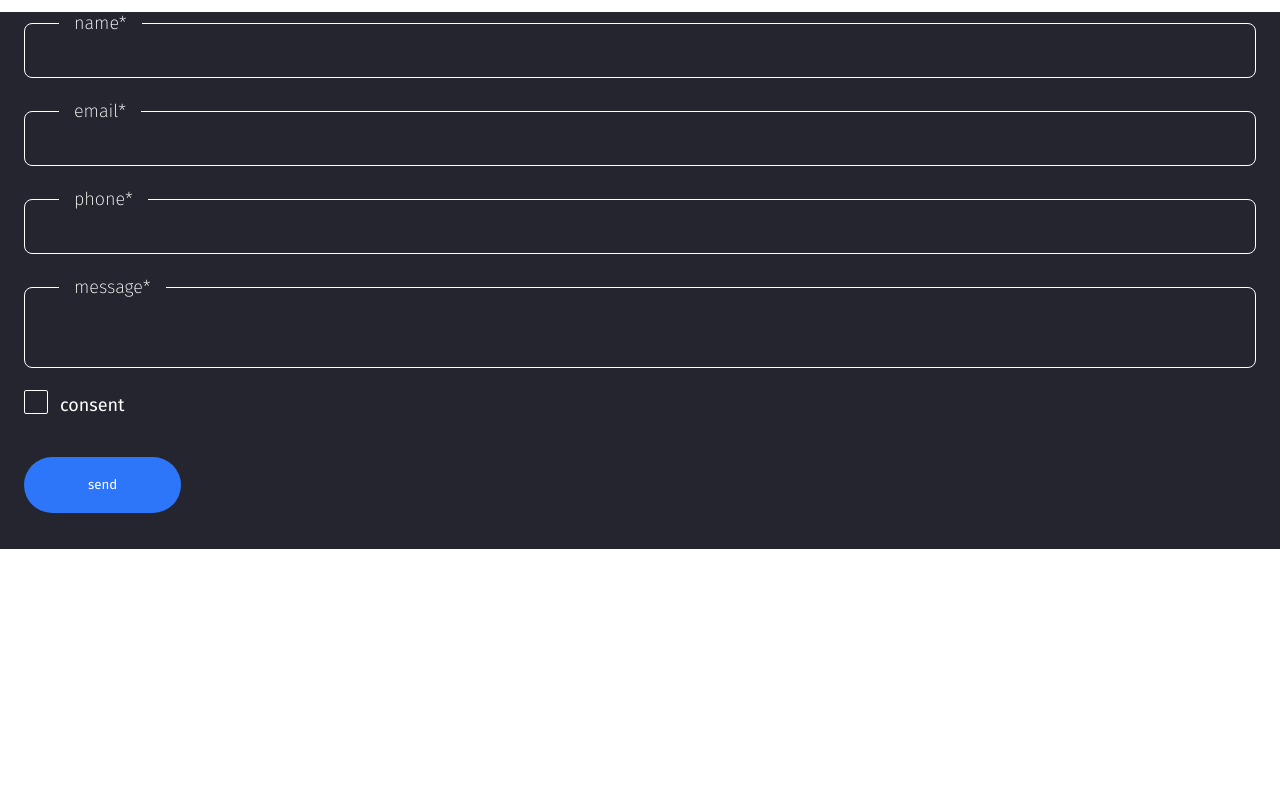
Test case: ContactForm Component › shows an error when the email is in an invalid format
Type "Nick Tests" into the field labelled "name". click: (640, 56)
box: left=25, top=34, right=1255, bottom=77
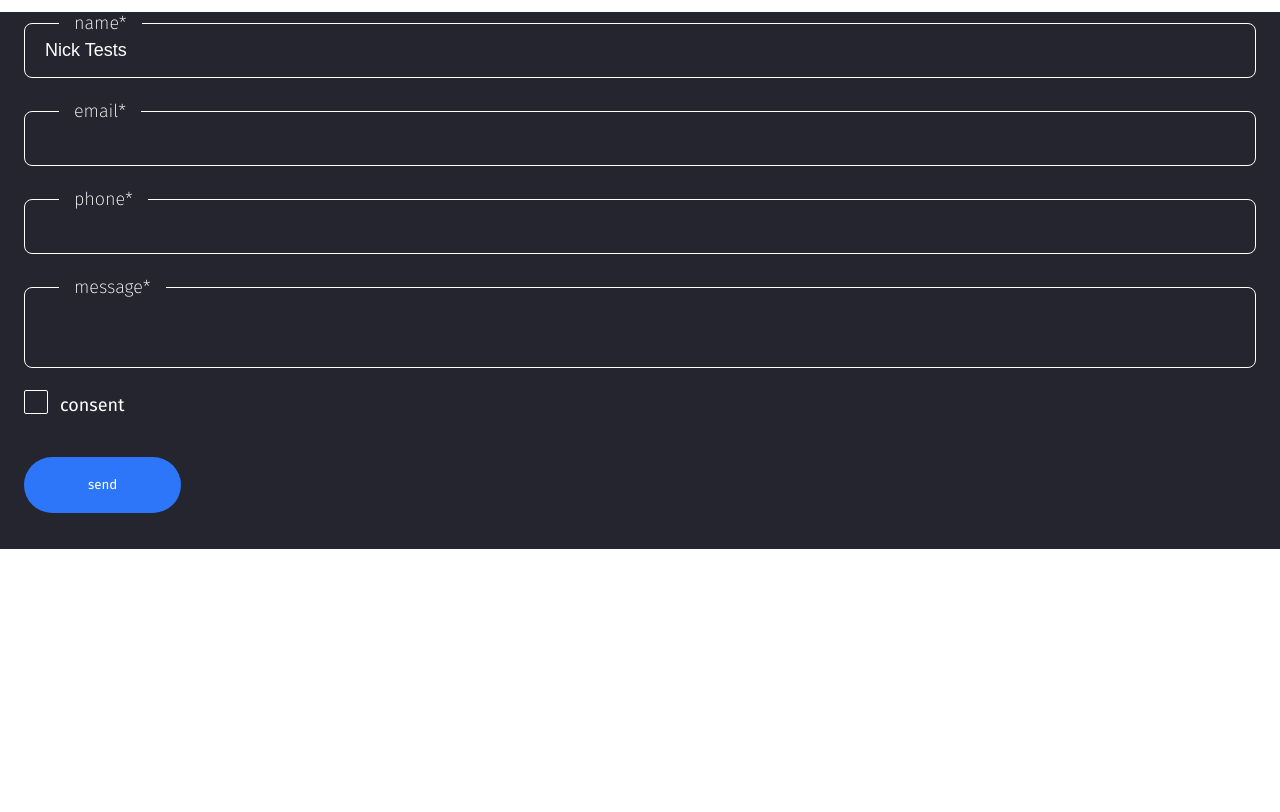
Type "invalid-email" into the field labelled "email". click: (640, 144)
box: left=25, top=122, right=1255, bottom=165
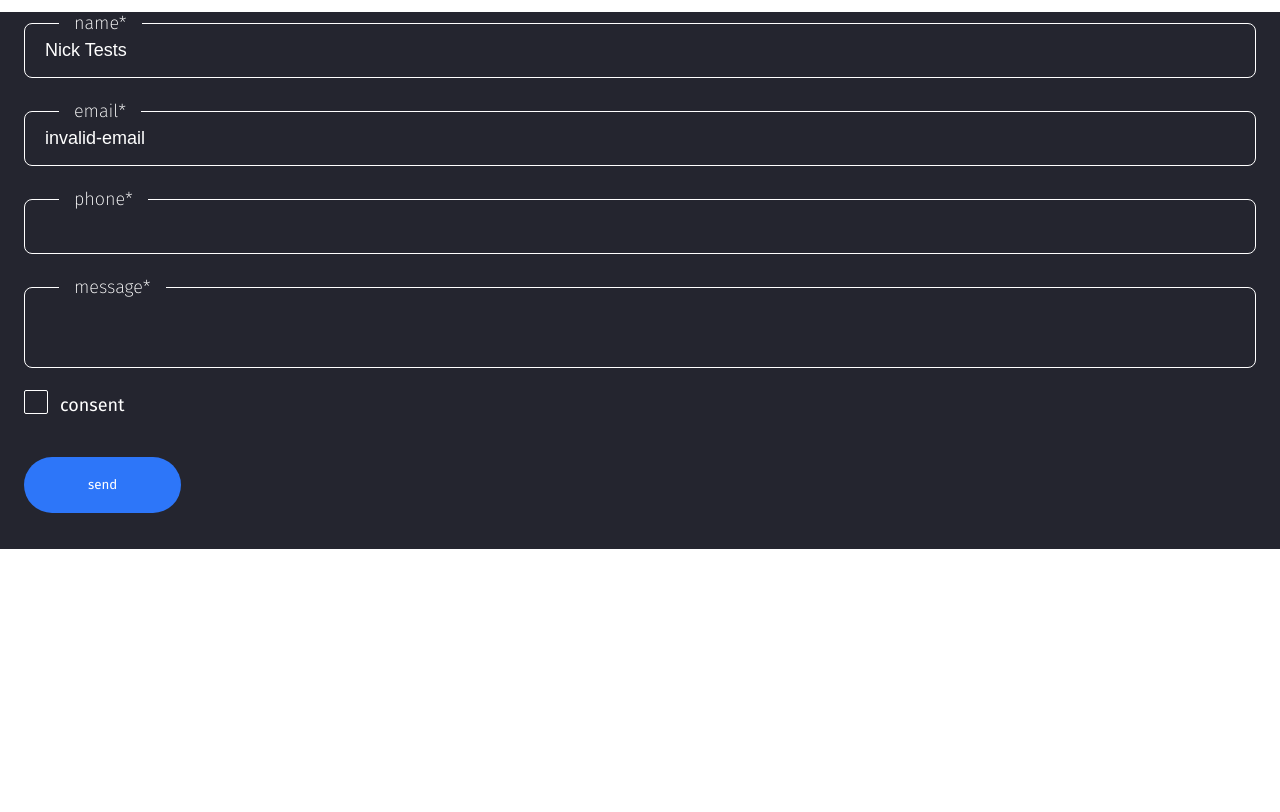
Type "1234567890" into the field labelled "phone". click: (640, 232)
box: left=25, top=210, right=1255, bottom=253
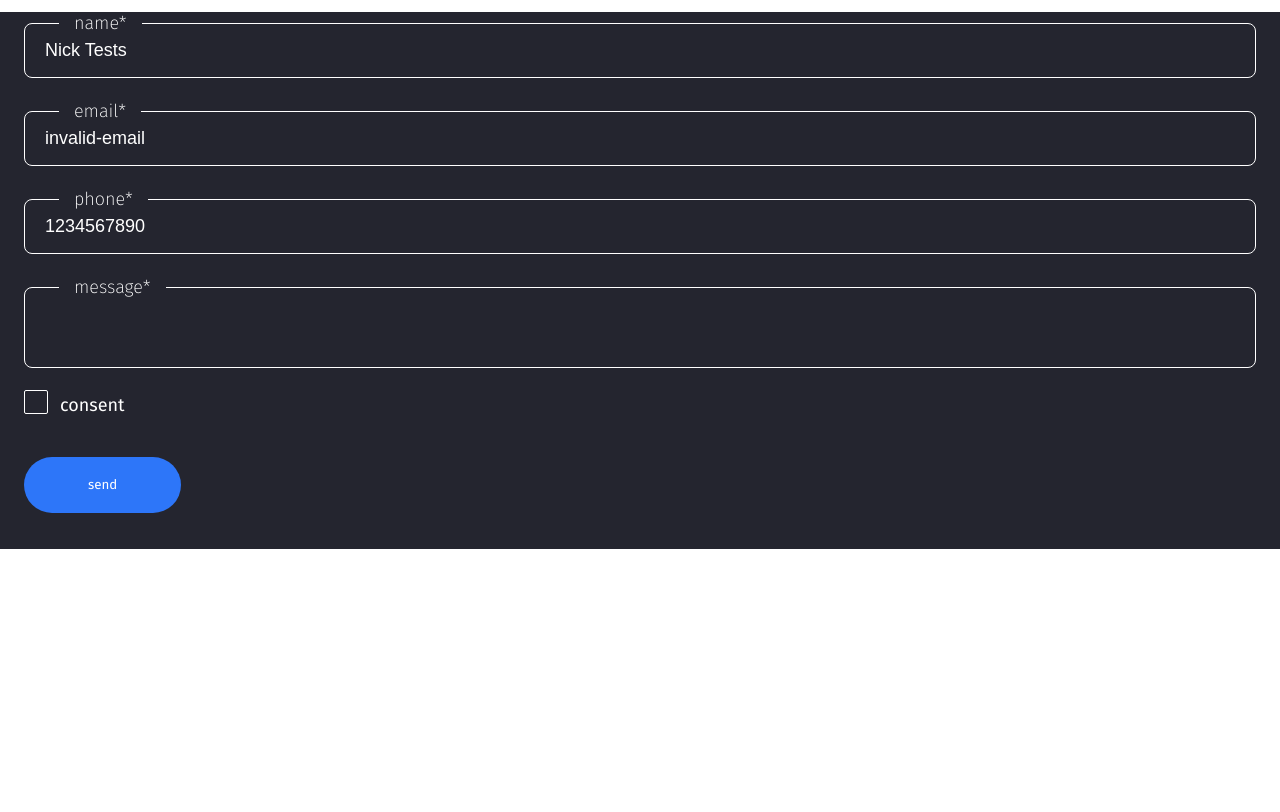
Type "Test message" into the text box labelled "message". click: (640, 330)
box: left=25, top=298, right=1255, bottom=362
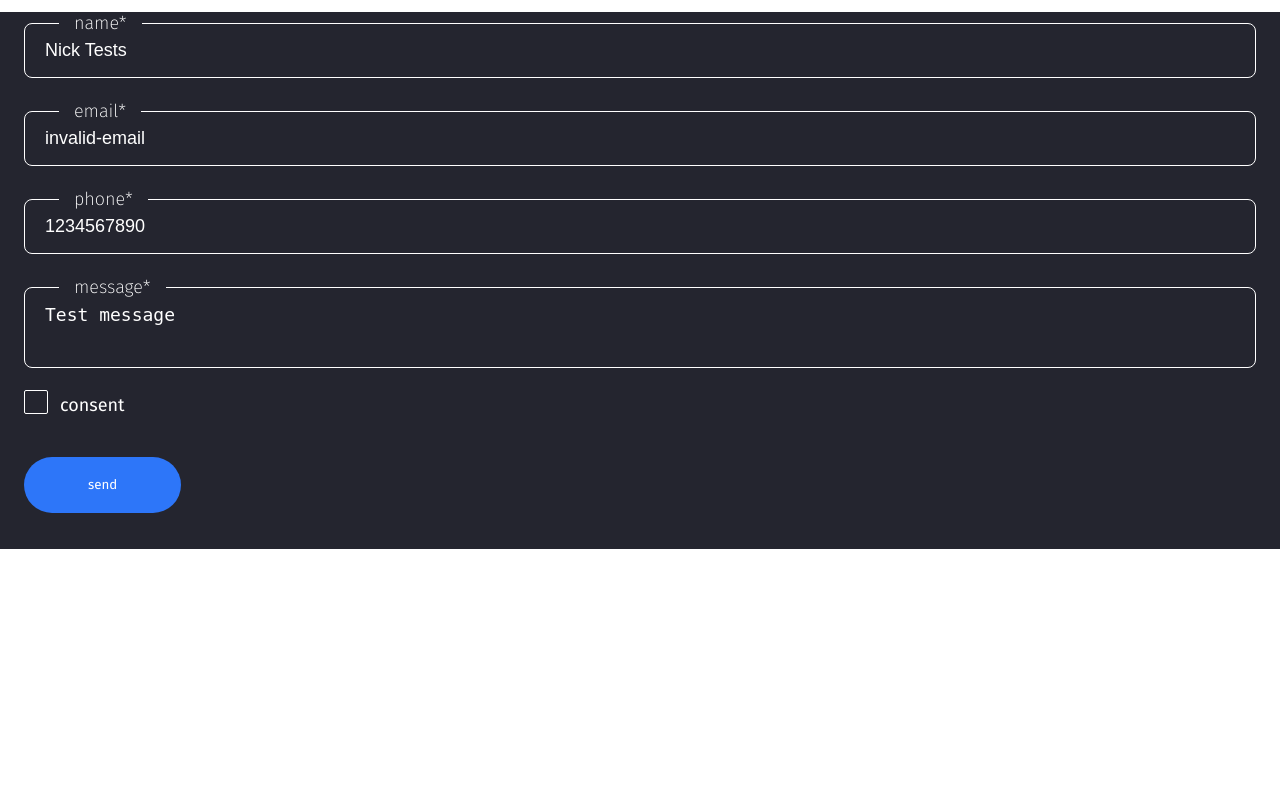
Click the button with aria-label "contact-form-submit". click: click(103, 485)
box: left=24, top=457, right=181, bottom=513
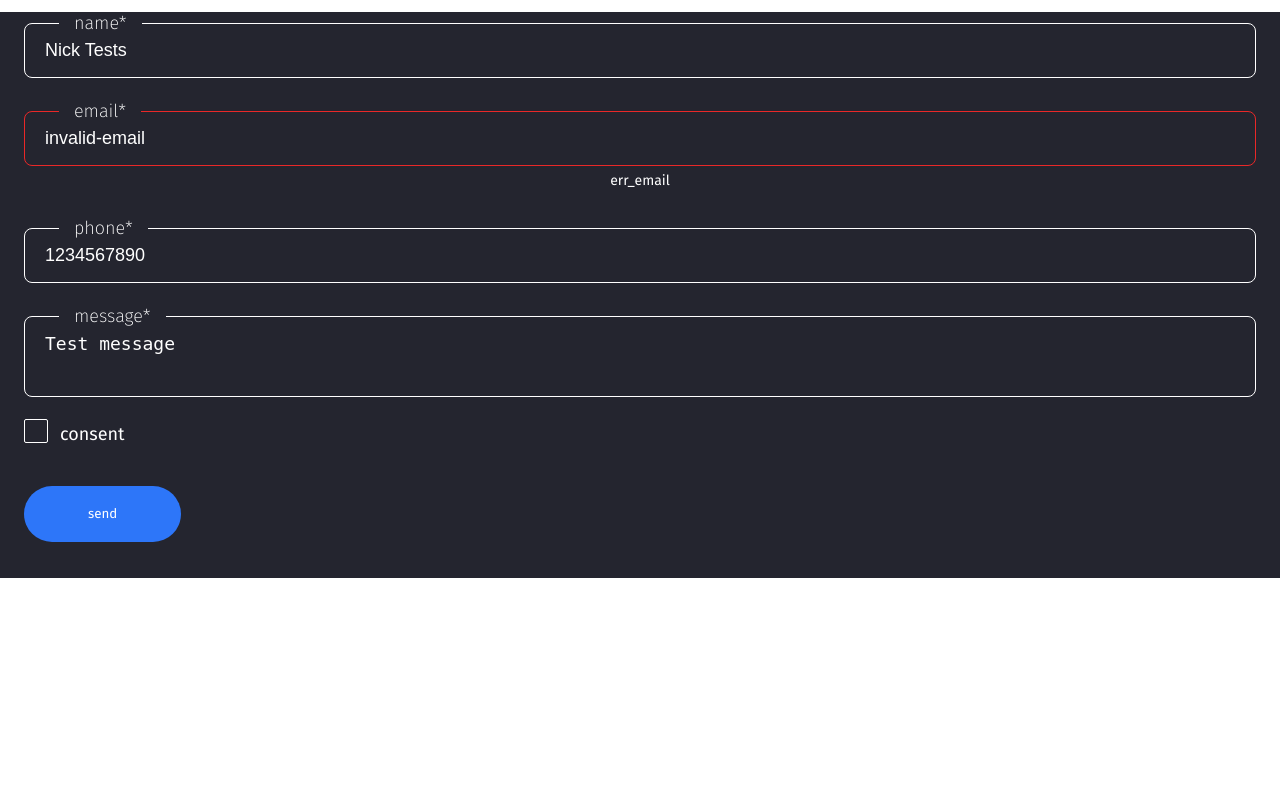
Check: the text named "email-error" is shown, box left=610, top=172, right=670, bottom=189
